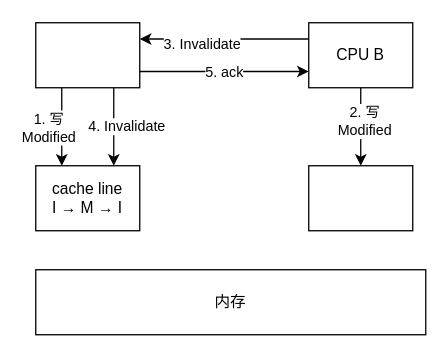
Image size: 448x358. Some labels were removed from this diagram. Here are the shapes that lost their labels. From the top down, the centre of each, then its label:
At [87,54]: "CPU A".
At [360,197]: "cache line I → M".
